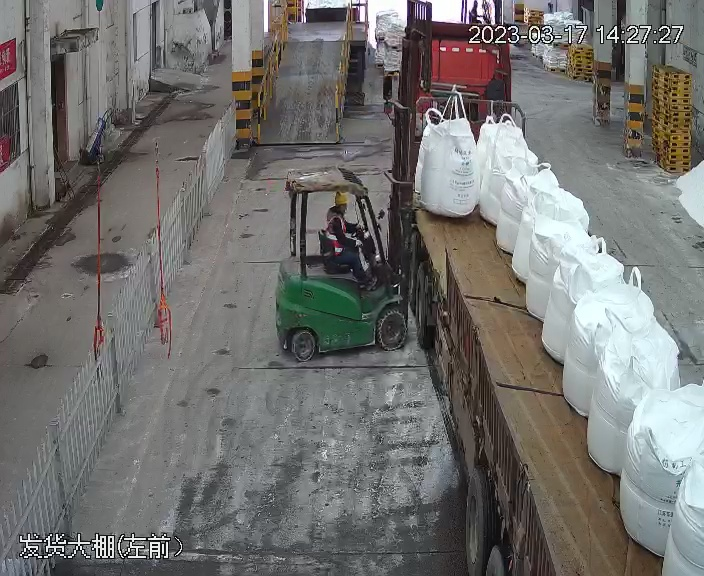head: (325, 190, 373, 279), (327, 191, 354, 231)
helmet: (333, 191, 350, 205)
people: (324, 190, 377, 291)
truck: (398, 21, 704, 571)
